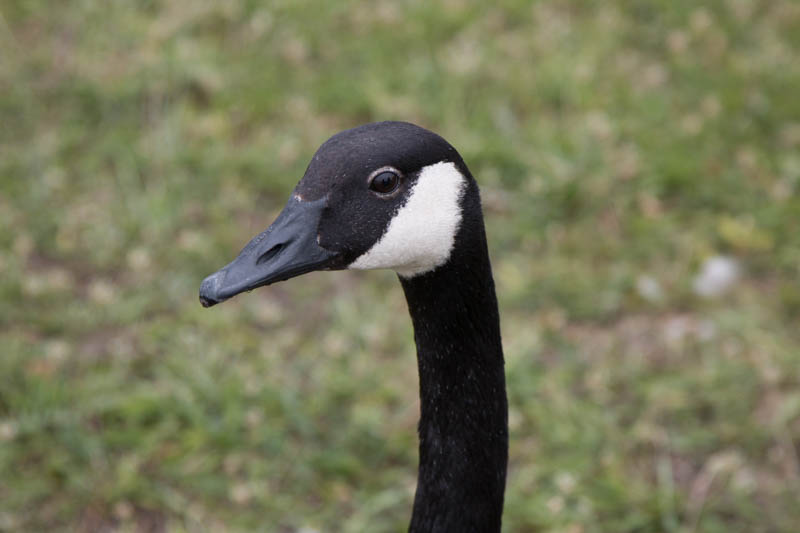goose-head: (198, 121, 483, 308)
